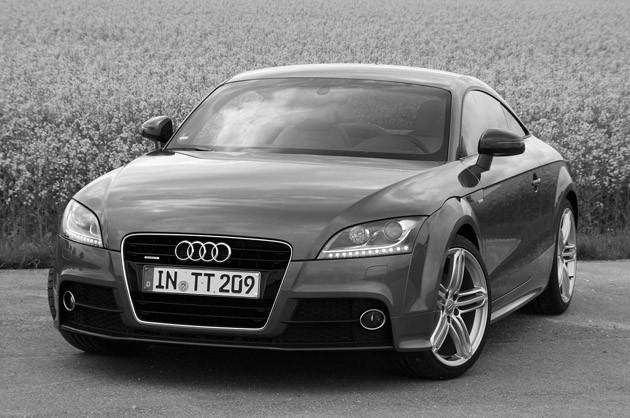car: (47, 59, 585, 383)
